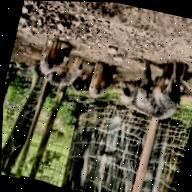boar: (112, 50, 190, 125), (41, 51, 84, 93), (35, 36, 75, 80), (86, 61, 116, 102)
